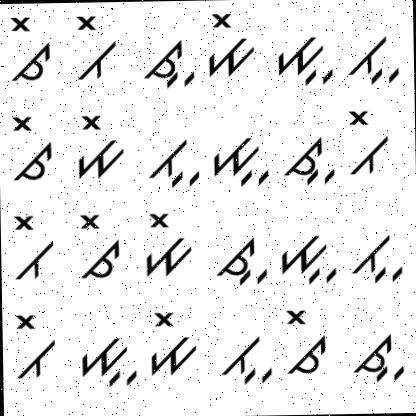bah: (344, 229, 405, 286), (142, 131, 202, 188), (343, 30, 402, 87), (218, 331, 275, 387)
bo: (3, 209, 58, 286), (8, 308, 60, 384), (343, 106, 391, 178), (73, 14, 120, 84)
cah: (207, 228, 270, 288), (348, 330, 405, 388), (138, 36, 196, 92), (282, 132, 338, 188)
co: (4, 111, 58, 184), (74, 208, 124, 282), (282, 305, 330, 380), (5, 12, 51, 84)
mah: (75, 326, 138, 392), (279, 224, 339, 291), (270, 26, 334, 88), (206, 128, 270, 188)
mo: (138, 205, 195, 280), (73, 108, 127, 182), (146, 306, 200, 380), (204, 9, 258, 77)
